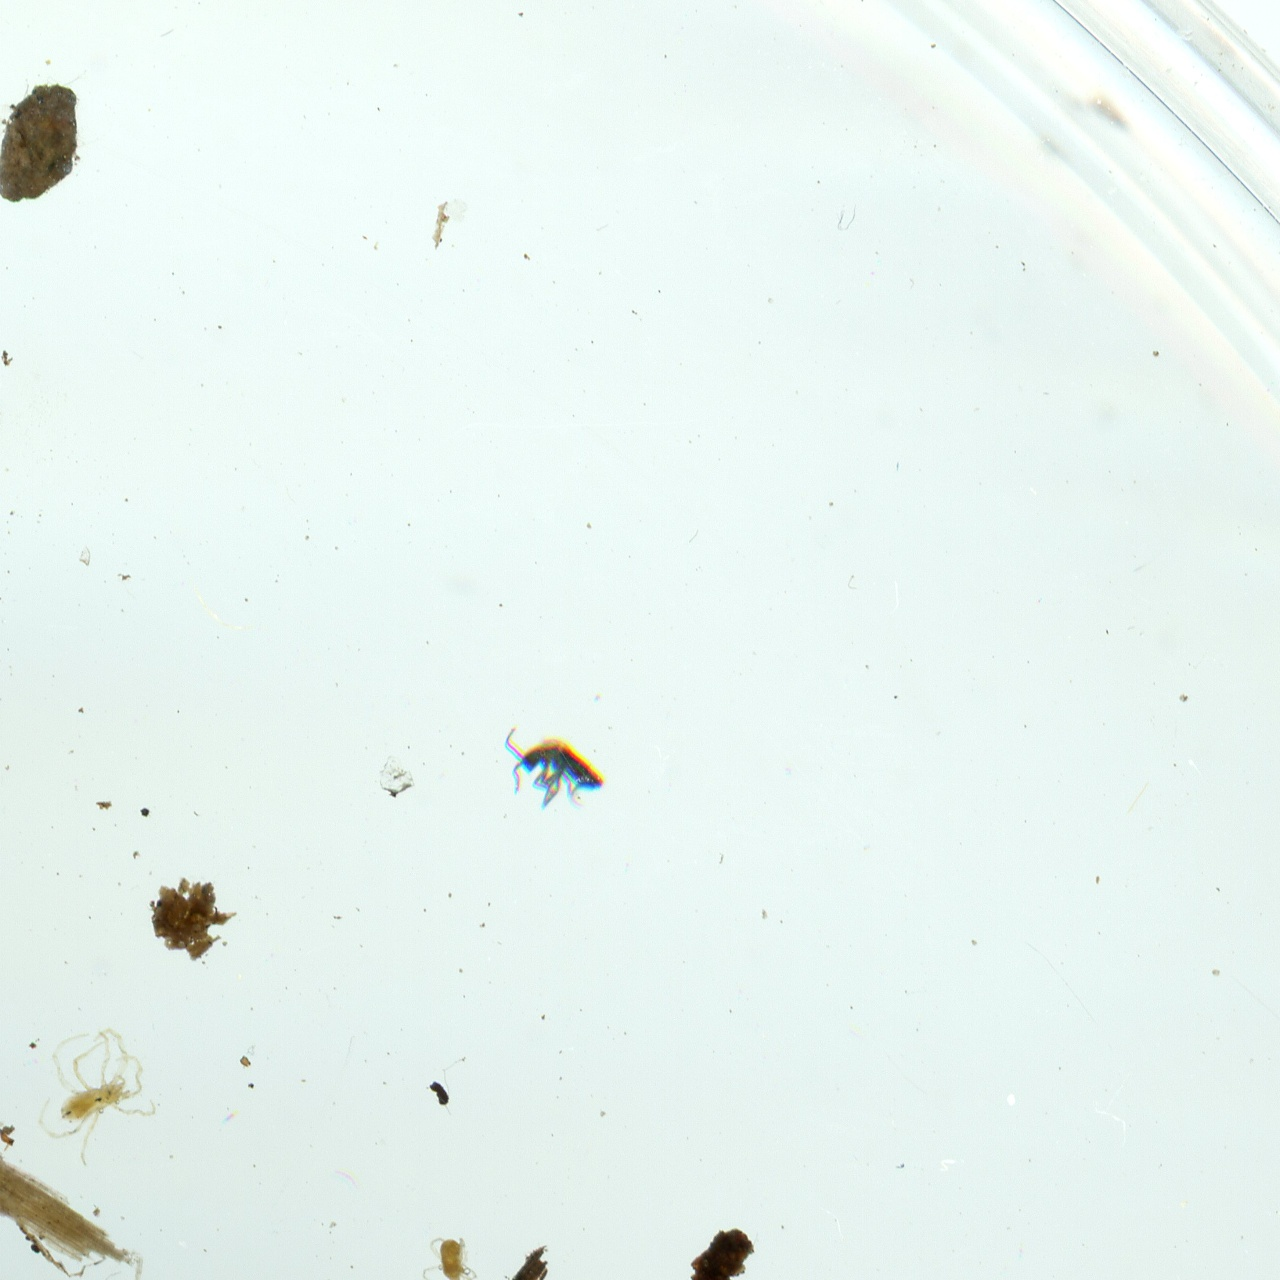arthropod: (6, 1008, 179, 1183), (503, 722, 608, 812), (410, 1225, 497, 1280)
